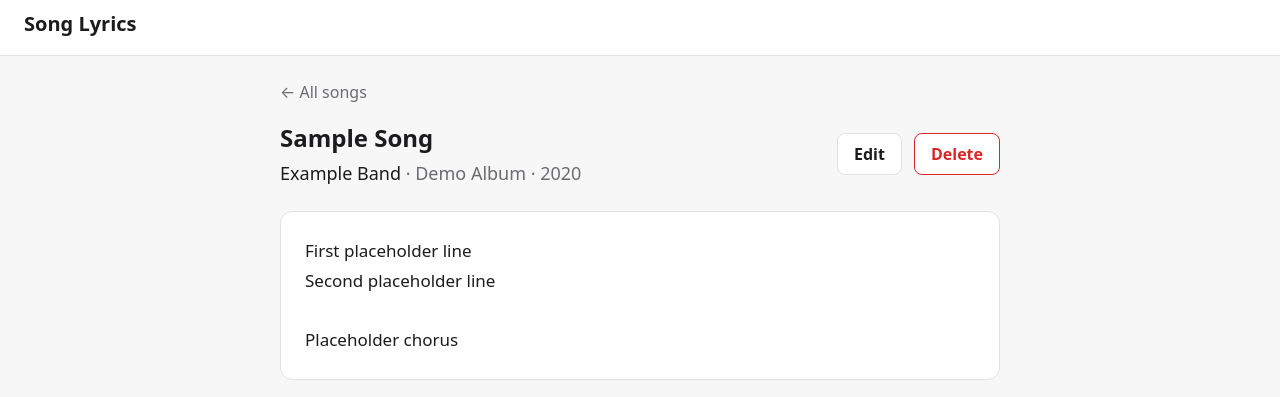
Scenario: SongDetailPage › deletes the song after confirmation and returns to the list
Click the button "Delete". click: (957, 154)
box: [914,132,1000,174]
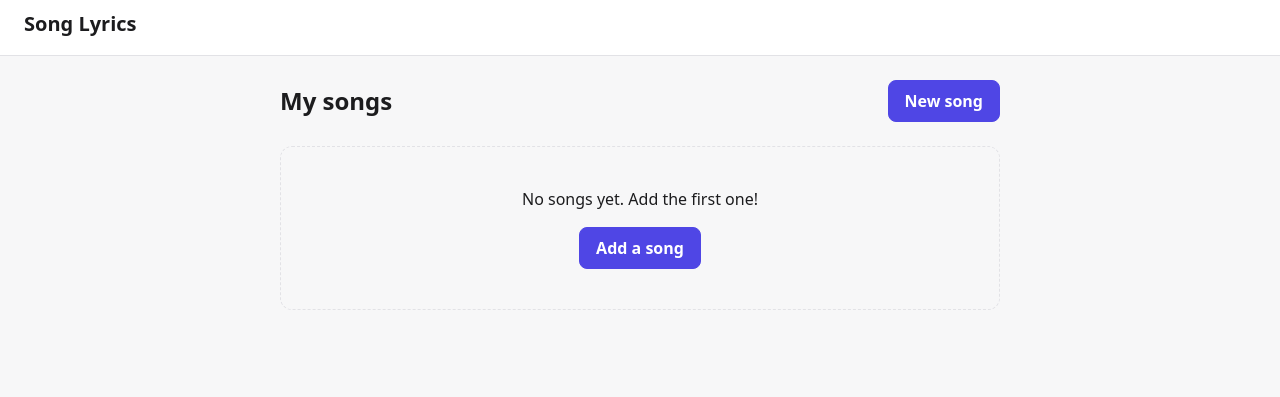
Expected: the text "No songs yet. Add the first one!" is shown, [522,188,758,210]
